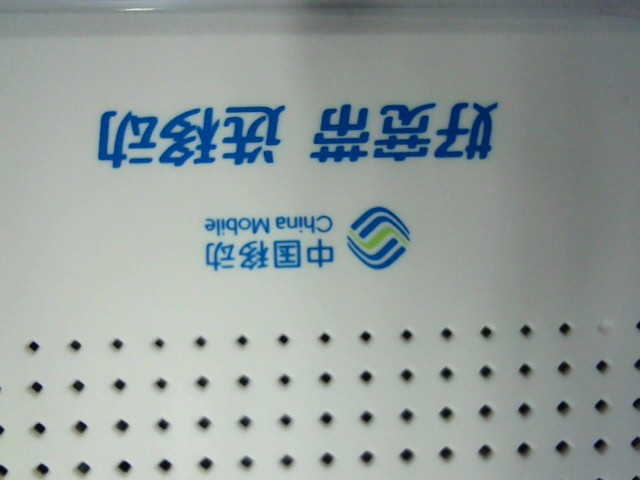AA_ChinaMoble: (91, 78, 513, 273)
